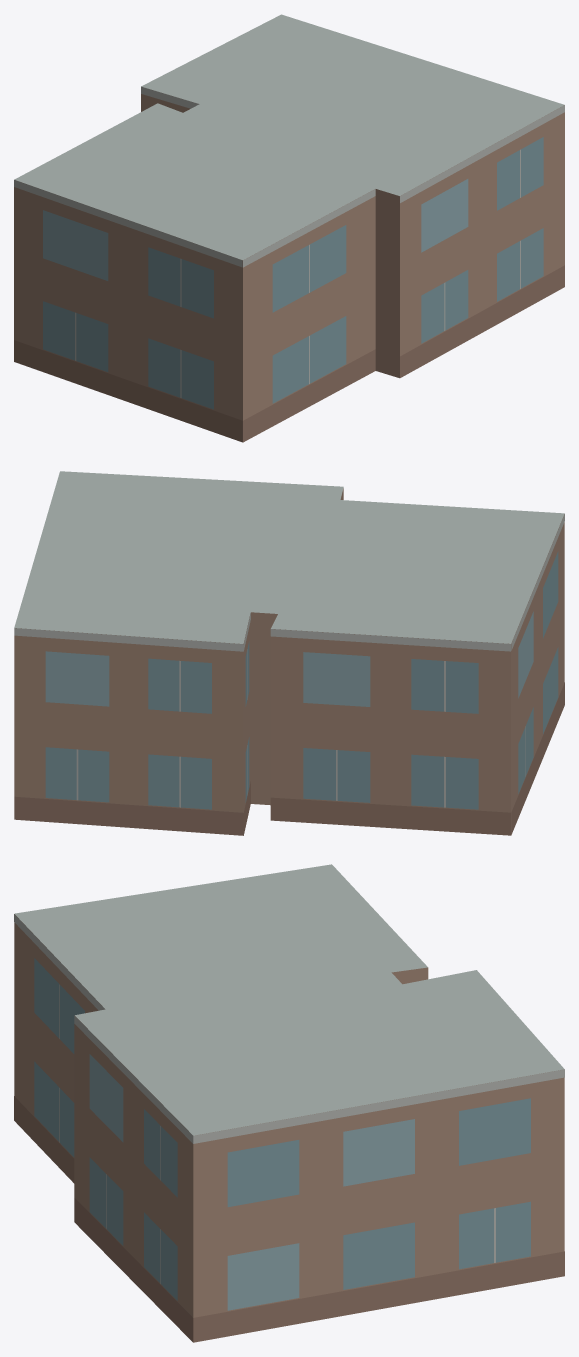
Rendered from survey-upis-33044083.glb.
The picture shows the model from 3 angles, top to bottom: view 1: azimuth 30°, elevation 25°; view 2: azimuth 150°, elevation 25°; view 3: azimuth 270°, elevation 25°; orthographic projection. The views are drawn at different scales.
Visible parts, largest first — view 1: survey-upis-33044083.tmp; view 2: survey-upis-33044083.tmp; view 3: survey-upis-33044083.tmp.
Part boxes in pixels (box(x1,y1,x2,y2)): survey-upis-33044083.tmp: box(14, 14, 564, 442); survey-upis-33044083.tmp: box(14, 471, 564, 835); survey-upis-33044083.tmp: box(14, 864, 564, 1342).
Size of the model in its own units: 17.17 by 6.1 by 14.72.
